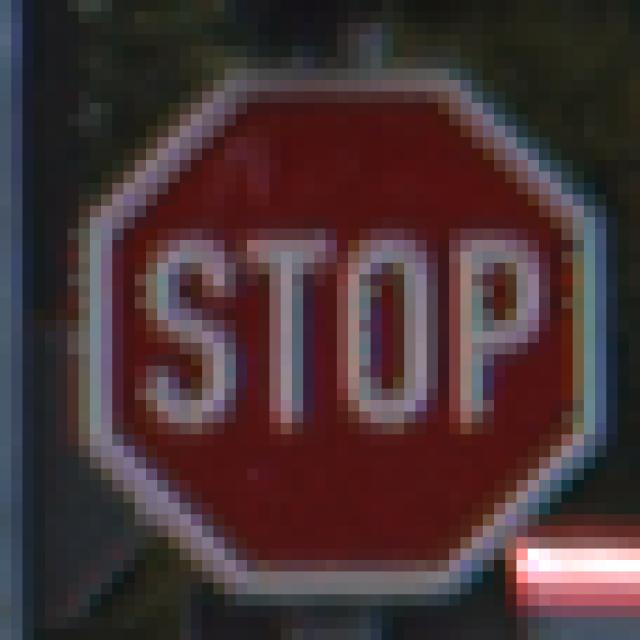STOP: (68, 58, 585, 584)
